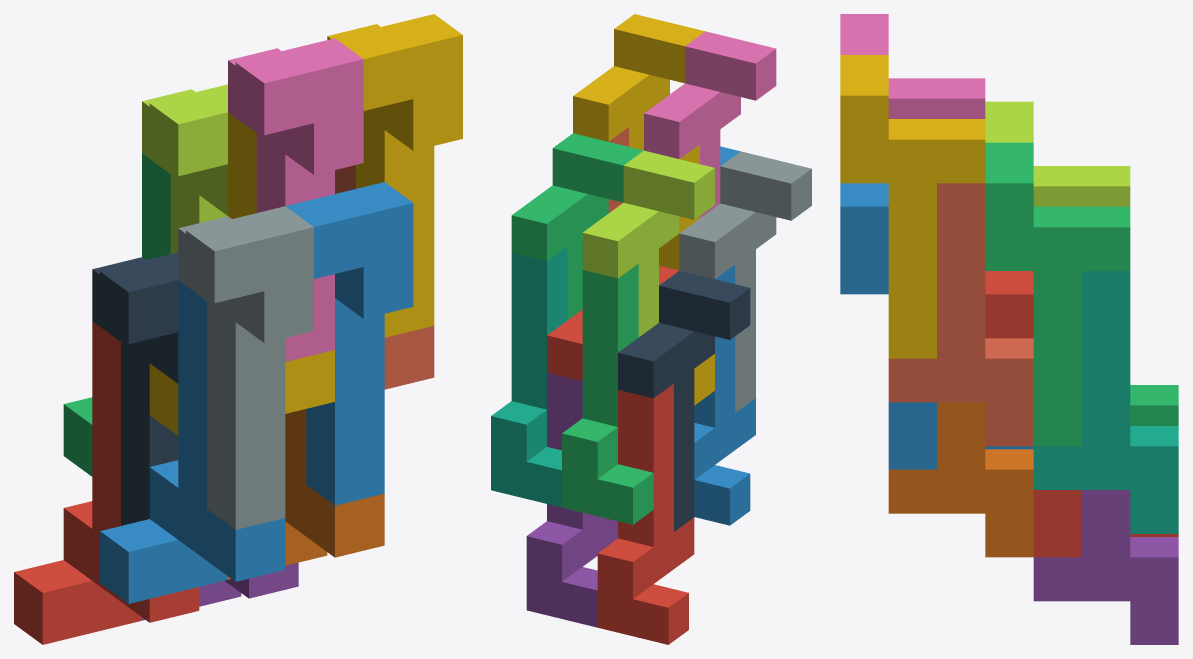
The model's file is tiling.obj.
3 renders of one model, left to right at view 1: azimuth 30°, elevation 25°; view 2: azimuth 150°, elevation 25°; view 3: azimuth 270°, elevation 25°, orthographic. The views are drawn at different scales.
Visible parts, largest first — view 1: copy_2_domain_2, copy_2_domain_6, copy_1_domain_2, copy_2_domain_4, copy_2_domain_8, copy_1_domain_1, copy_2_domain_1, copy_2_domain_3, copy_1_domain_6, copy_1_domain_4, copy_1_domain_3, copy_1_domain_8 (+1 smaller); view 2: copy_1_domain_1, copy_1_domain_3, copy_1_domain_7, copy_2_domain_1, copy_2_domain_2, copy_2_domain_3, copy_2_domain_4, copy_2_domain_7, copy_1_domain_5, copy_2_domain_8, copy_1_domain_2, copy_2_domain_5 (+1 smaller); view 3: copy_2_domain_7, copy_2_domain_8, copy_1_domain_8, copy_1_domain_7, copy_1_domain_6, copy_1_domain_5, copy_2_domain_6, copy_2_domain_5, copy_2_domain_3, copy_2_domain_4, copy_1_domain_3.
Part boxes in pixels (<box>): copy_2_domain_2: <box>178,206,313,529</box>; copy_2_domain_6: <box>285,182,413,505</box>; copy_1_domain_2: <box>100,280,285,603</box>; copy_2_domain_4: <box>228,38,363,361</box>; copy_2_domain_8: <box>327,14,462,337</box>; copy_1_domain_1: <box>14,321,199,644</box>; copy_2_domain_1: <box>92,252,178,525</box>; copy_2_domain_3: <box>142,84,227,253</box>; copy_1_domain_6: <box>228,409,384,579</box>; copy_1_domain_4: <box>149,112,334,435</box>; copy_1_domain_3: <box>63,153,170,476</box>; copy_1_domain_8: <box>335,165,434,389</box>; copy_1_domain_1: <box>597,384,694,644</box>; copy_1_domain_3: <box>562,263,653,524</box>; copy_1_domain_7: <box>491,246,567,507</box>; copy_2_domain_1: <box>618,270,750,531</box>; copy_2_domain_2: <box>679,151,811,412</box>; copy_2_domain_3: <box>582,150,714,337</box>; copy_2_domain_4: <box>644,31,776,217</box>; copy_2_domain_7: <box>511,133,643,319</box>; copy_1_domain_5: <box>526,372,617,627</box>; copy_2_domain_8: <box>573,14,704,150</box>; copy_1_domain_2: <box>694,265,755,525</box>; copy_2_domain_5: <box>547,265,678,380</box>; copy_2_domain_7: <box>985,142,1130,446</box>; copy_2_domain_8: <box>840,55,985,358</box>; copy_1_domain_8: <box>888,183,1033,446</box>; copy_1_domain_7: <box>1033,271,1178,533</box>; copy_1_domain_6: <box>888,402,1033,557</box>; copy_1_domain_5: <box>1033,490,1178,644</box>; copy_2_domain_6: <box>840,183,936,469</box>; copy_2_domain_5: <box>985,271,1081,557</box>; copy_2_domain_3: <box>985,101,1130,206</box>; copy_2_domain_4: <box>840,14,985,118</box>; copy_1_domain_3: <box>1130,385,1178,425</box>.
Bounding box in the file's own units: 5 × 13 × 7.
